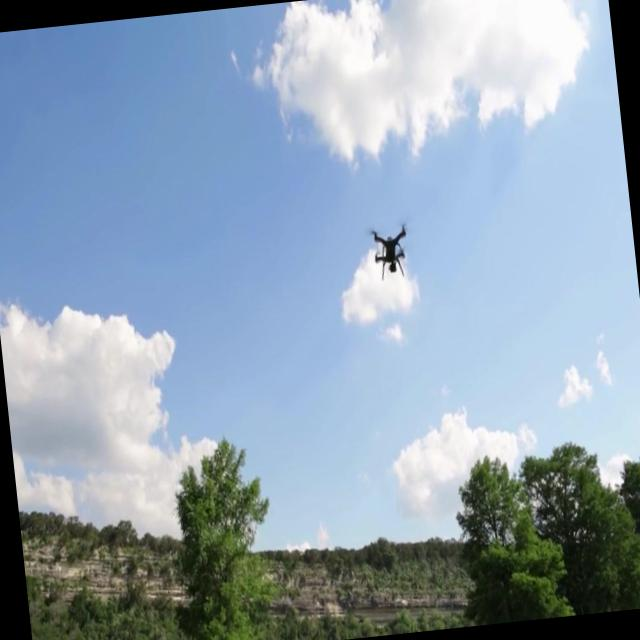drone: (366, 220, 414, 284)
